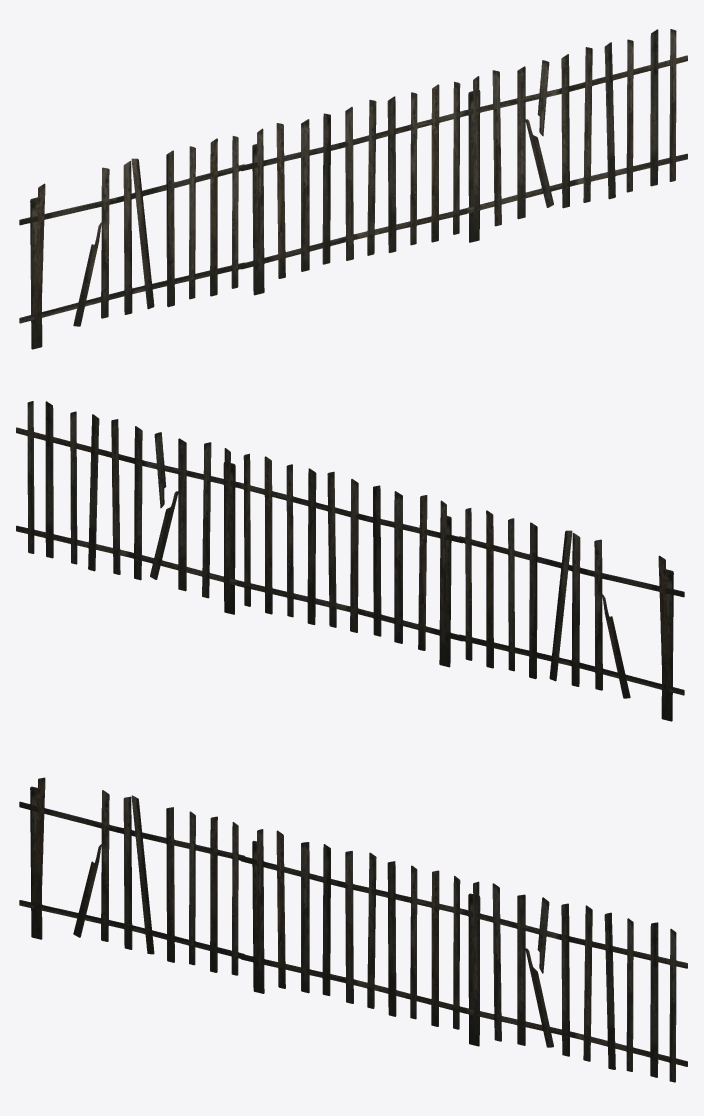
The model's file is shtaket_lod.FBX.
3 views of the same model, one above another, from view 1: azimuth 30°, elevation 25°; view 2: azimuth 150°, elevation 25°; view 3: azimuth 330°, elevation 25° (orthographic).
Visible parts, largest first — view 1: Fence_lod; view 2: Fence_lod; view 3: Fence_lod.
Part boxes in pixels (x1,y1,x2,y2): Fence_lod: [19, 29, 687, 349]; Fence_lod: [16, 401, 684, 721]; Fence_lod: [19, 777, 687, 1082].
Bounding box in the file's own units: 5.43 × 1.37 × 0.00558.
